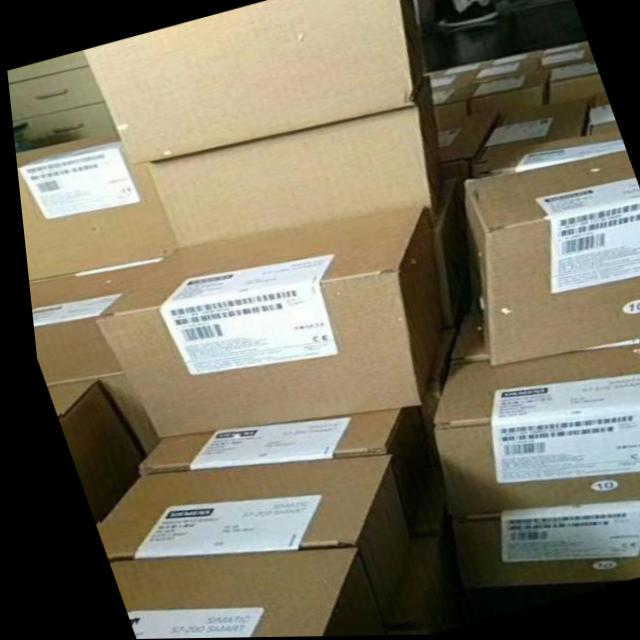box: (88, 206, 440, 438), (82, 0, 422, 165), (141, 77, 439, 249), (85, 454, 402, 608), (460, 151, 640, 367), (423, 343, 640, 515), (23, 256, 161, 457), (12, 132, 171, 280), (96, 548, 345, 639), (128, 408, 398, 476), (439, 501, 640, 589), (39, 379, 134, 523), (469, 98, 587, 179), (484, 131, 621, 177), (465, 70, 548, 118), (434, 109, 497, 164), (546, 61, 602, 105), (469, 51, 541, 84), (429, 60, 493, 91), (430, 83, 477, 120), (537, 43, 591, 71), (583, 94, 614, 135)
